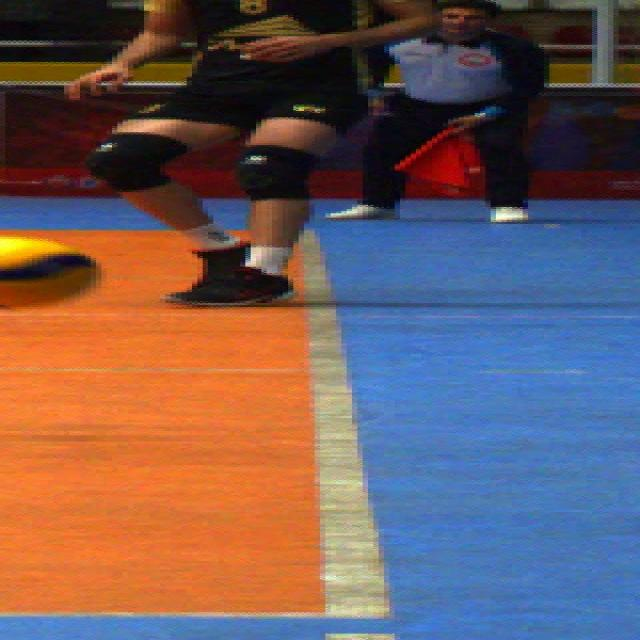Volleyball: (0, 234, 99, 308)
